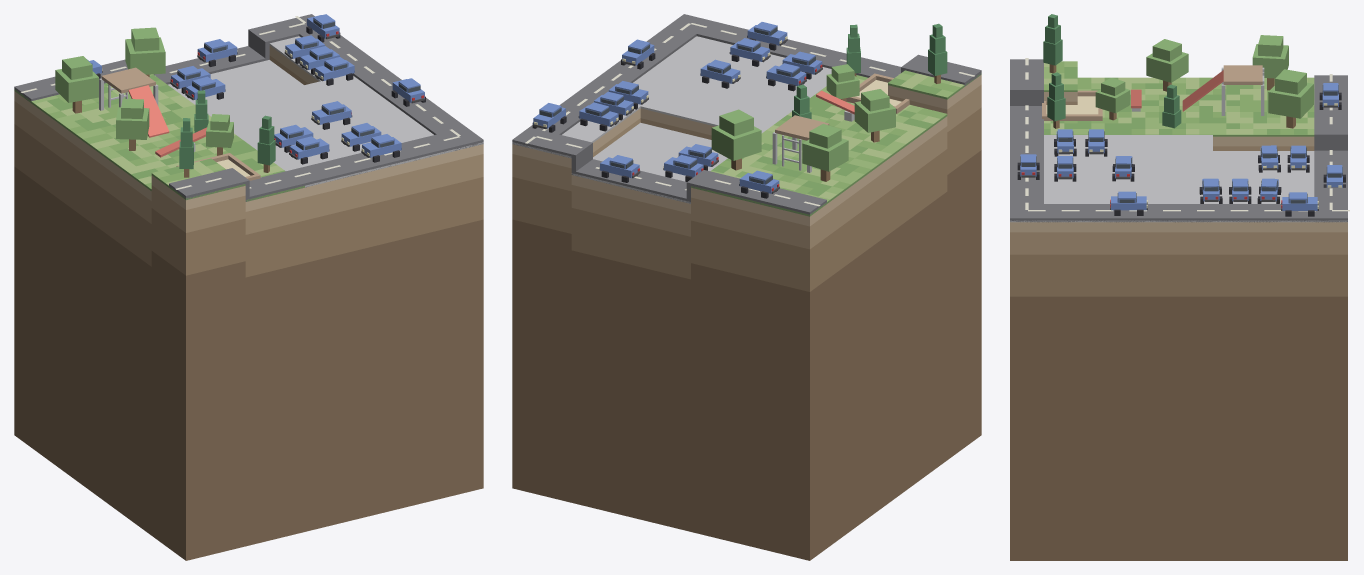
The model's file is block_23_urbanfarm_0.glb.
3 views of the same model, side by side, from view 1: azimuth 30°, elevation 25°; view 2: azimuth 150°, elevation 25°; view 3: azimuth 270°, elevation 25° (orthographic).
Parts seen in each view (by area): view 1: Patch_UpperRight_b23_UF, Resid_UpperRight_b23_UF, Roads_UpperRight_b23_UF, PlayEquip_UpperRight_b23_UF, RTree_45_UF, RTree_46_UF, RTree_43_UF, RTree_42_UF, RTree_41_UF, RoadMarks_UpperRight_b23_UF, RCar_4_UF, PCar_0_UF (+12 smaller); view 2: Patch_UpperRight_b23_UF, Resid_UpperRight_b23_UF, Roads_UpperRight_b23_UF, PlayEquip_UpperRight_b23_UF, RTree_46_UF, RTree_45_UF, RTree_43_UF, RTree_42_UF, RTree_40_UF, PCar_4_UF, PCar_6_UF, PCar_9_UF (+13 smaller); view 3: Patch_UpperRight_b23_UF, Resid_UpperRight_b23_UF, Roads_UpperRight_b23_UF, PlayEquip_UpperRight_b23_UF, RTree_46_UF, RTree_43_UF, RTree_45_UF, RTree_42_UF, RTree_40_UF, RTree_41_UF, RoadMarks_UpperRight_b23_UF, RCar_14_UF (+14 smaller).
Boxes of the visible parts, x1=… form: Patch_UpperRight_b23_UF: x1=14, y1=46, x2=483, y2=560; Resid_UpperRight_b23_UF: x1=14, y1=36, x2=483, y2=201; Roads_UpperRight_b23_UF: x1=14, y1=14, x2=483, y2=201; PlayEquip_UpperRight_b23_UF: x1=99, y1=67, x2=260, y2=180; RTree_45_UF: x1=55, y1=56, x2=98, y2=113; RTree_46_UF: x1=125, y1=27, x2=165, y2=76; RTree_43_UF: x1=116, y1=98, x2=149, y2=150; RTree_42_UF: x1=206, y1=114, x2=233, y2=155; RTree_41_UF: x1=257, y1=115, x2=275, y2=172; RoadMarks_UpperRight_b23_UF: x1=21, y1=16, x2=460, y2=189; RCar_4_UF: x1=197, y1=39, x2=237, y2=66; PCar_0_UF: x1=289, y1=136, x2=329, y2=164; Patch_UpperRight_b23_UF: x1=512, y1=75, x2=981, y2=560; Resid_UpperRight_b23_UF: x1=512, y1=36, x2=981, y2=216; Roads_UpperRight_b23_UF: x1=512, y1=14, x2=981, y2=216; PlayEquip_UpperRight_b23_UF: x1=772, y1=73, x2=909, y2=172; RTree_46_UF: x1=711, y1=109, x2=761, y2=170; RTree_45_UF: x1=802, y1=123, x2=848, y2=181; RTree_43_UF: x1=854, y1=89, x2=895, y2=142; RTree_42_UF: x1=826, y1=64, x2=859, y2=101; RTree_40_UF: x1=928, y1=23, x2=947, y2=83; PCar_4_UF: x1=729, y1=38, x2=770, y2=66; PCar_6_UF: x1=700, y1=59, x2=740, y2=88; PCar_9_UF: x1=578, y1=102, x2=618, y2=131; Patch_UpperRight_b23_UF: x1=1010, y1=92, x2=1347, y2=560; Resid_UpperRight_b23_UF: x1=1010, y1=61, x2=1347, y2=222; Roads_UpperRight_b23_UF: x1=1010, y1=59, x2=1347, y2=222; PlayEquip_UpperRight_b23_UF: x1=1042, y1=65, x2=1264, y2=120; RTree_46_UF: x1=1268, y1=69, x2=1313, y2=128; RTree_43_UF: x1=1146, y1=39, x2=1188, y2=91; RTree_45_UF: x1=1252, y1=35, x2=1288, y2=90; RTree_42_UF: x1=1095, y1=77, x2=1130, y2=120; RTree_40_UF: x1=1043, y1=14, x2=1062, y2=73; RTree_41_UF: x1=1047, y1=72, x2=1065, y2=128; RoadMarks_UpperRight_b23_UF: x1=1025, y1=58, x2=1349, y2=211; RCar_14_UF: x1=1110, y1=191, x2=1147, y2=215.
Size of the model in its own units: 9.55 by 12.8 by 9.55.
